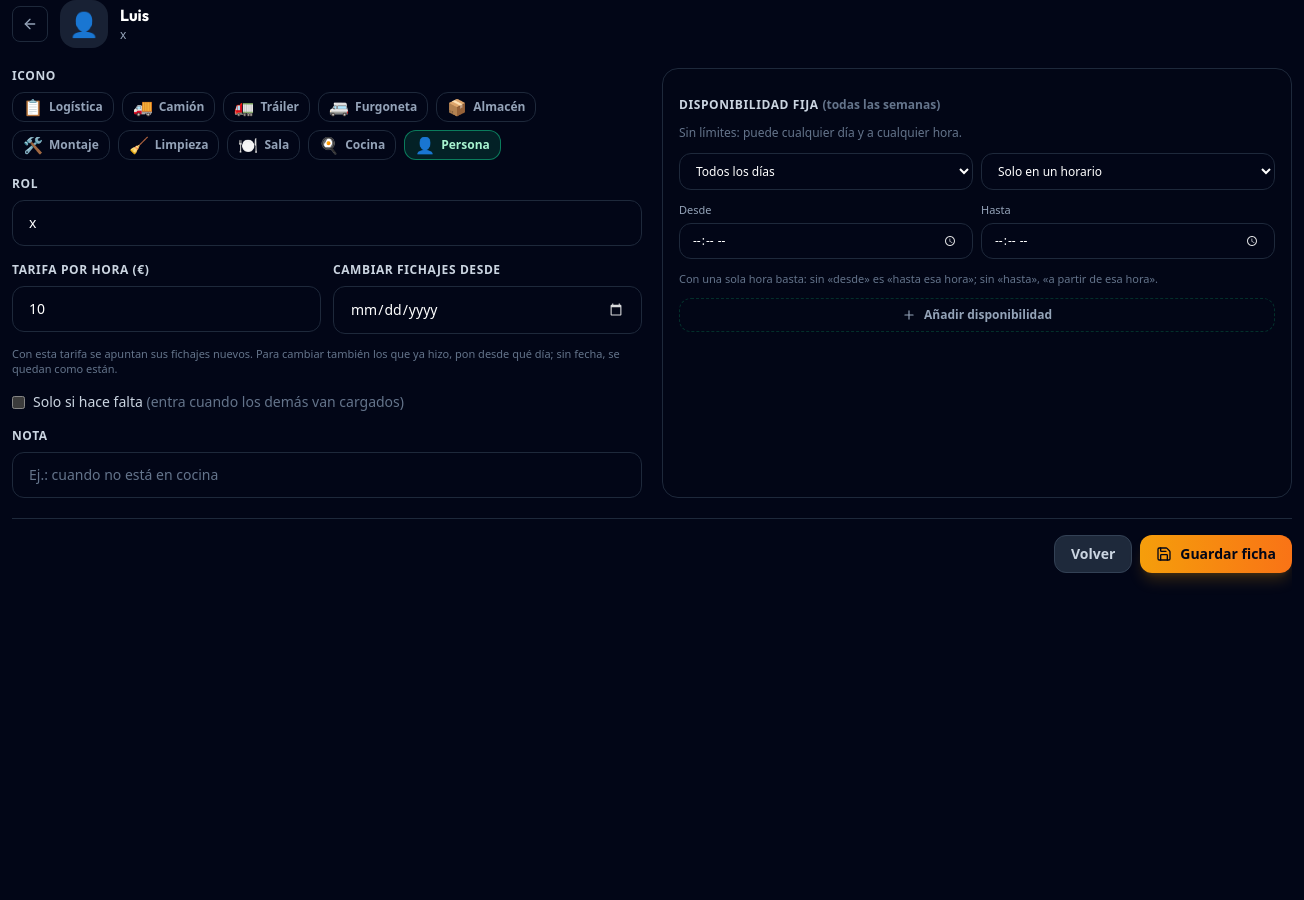
it: FichaTrabajador — grupos de días › tarifa por hora › sin fecha, solo cambia para los fichajes nuevos: los ya hechos no se tocan
This screenshot has width=1304, height=900.
Replace the text in the number field labelled "Tarifa por hora (€)" with "12" at (166, 309), box [12,286,321,332]
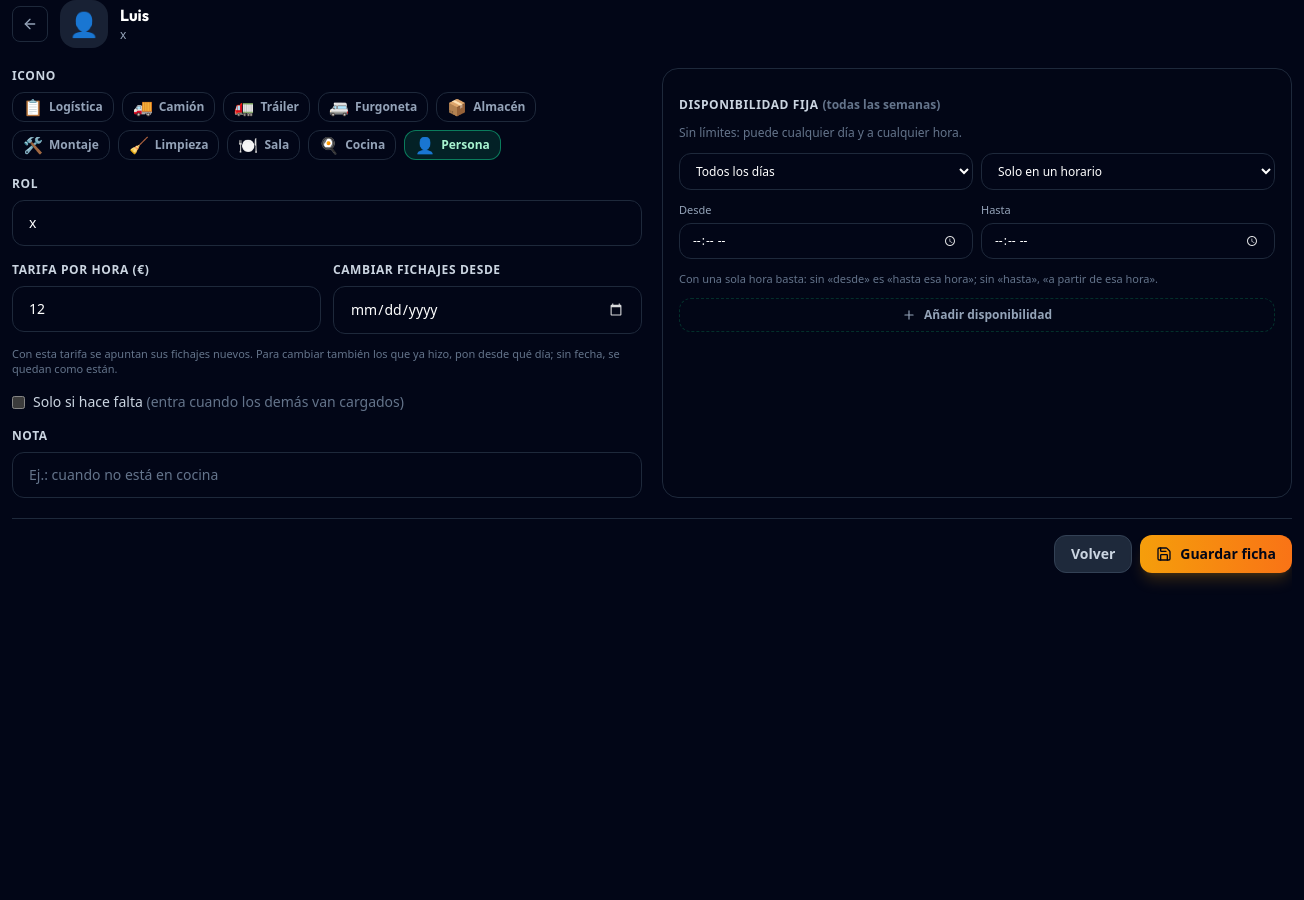
Click the button "Guardar ficha" at (1216, 554), box [1140,535,1292,573]
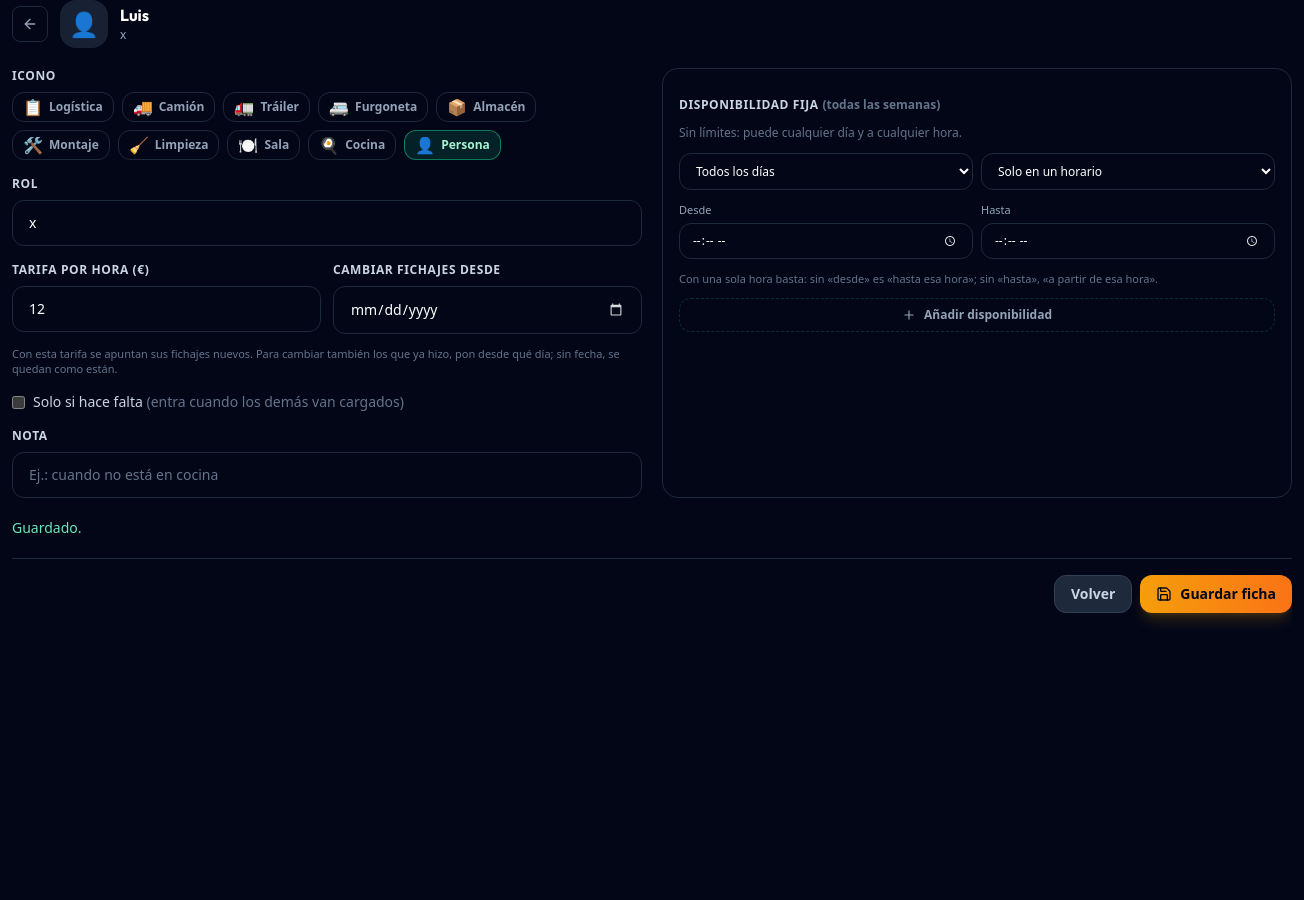
Check: the message reads "Guardado.", box [12,518,82,537]
